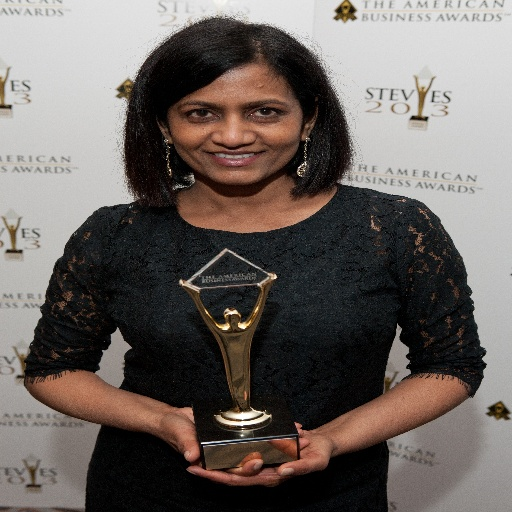hand: (152, 406, 310, 474)
